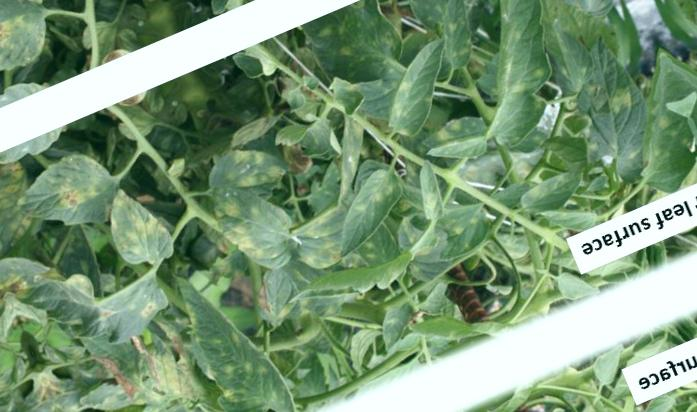Tomato mold leaf: (431, 0, 604, 148), (0, 215, 153, 372), (168, 246, 308, 412), (573, 23, 697, 206), (548, 9, 670, 174), (266, 162, 421, 289), (0, 139, 130, 256), (361, 30, 477, 145), (207, 171, 309, 285), (90, 168, 187, 280), (0, 164, 63, 279), (404, 0, 494, 77), (419, 196, 499, 269), (418, 115, 499, 178), (509, 165, 587, 223), (404, 159, 451, 225)
